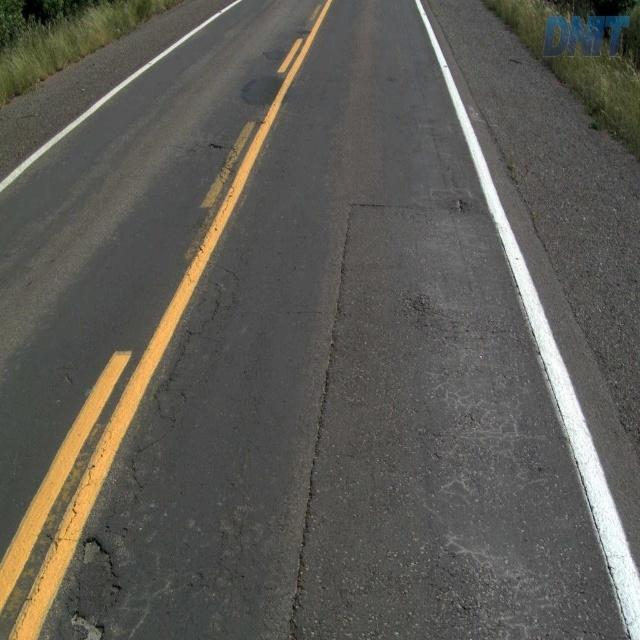pothole: (68, 540, 117, 640)
